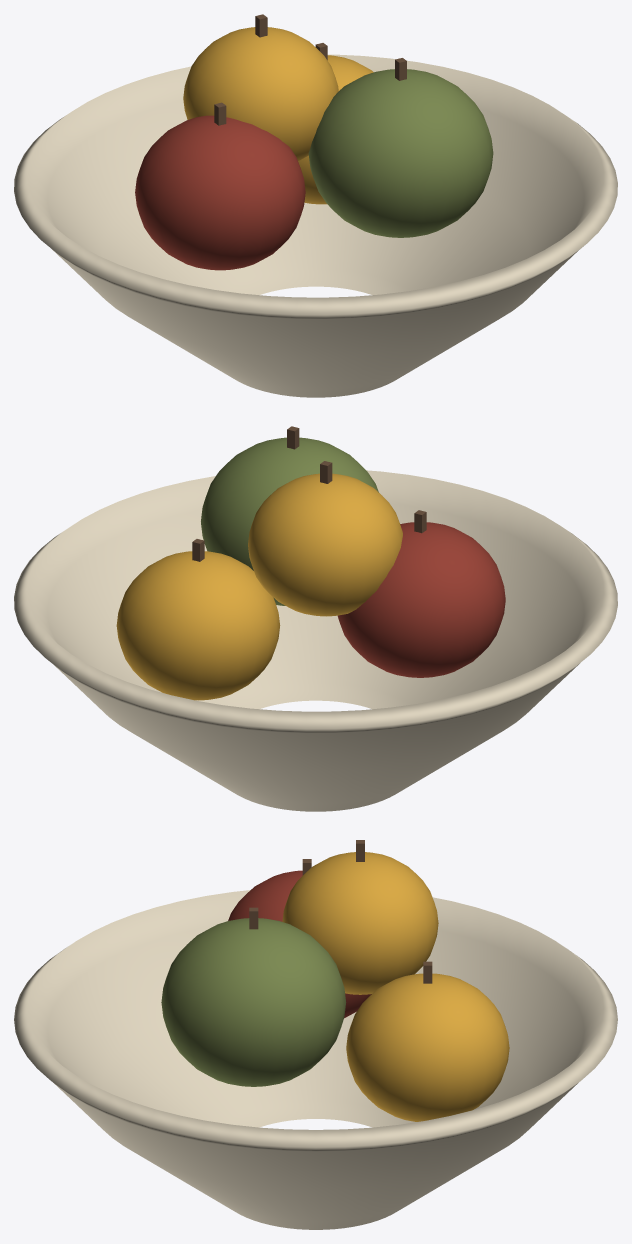
The picture shows the model from 3 angles, top to bottom: view 1: azimuth 30°, elevation 25°; view 2: azimuth 150°, elevation 25°; view 3: azimuth 270°, elevation 25°; orthographic projection.
Bounding box in the file's own units: 0.34 × 0.2056 × 0.34.
